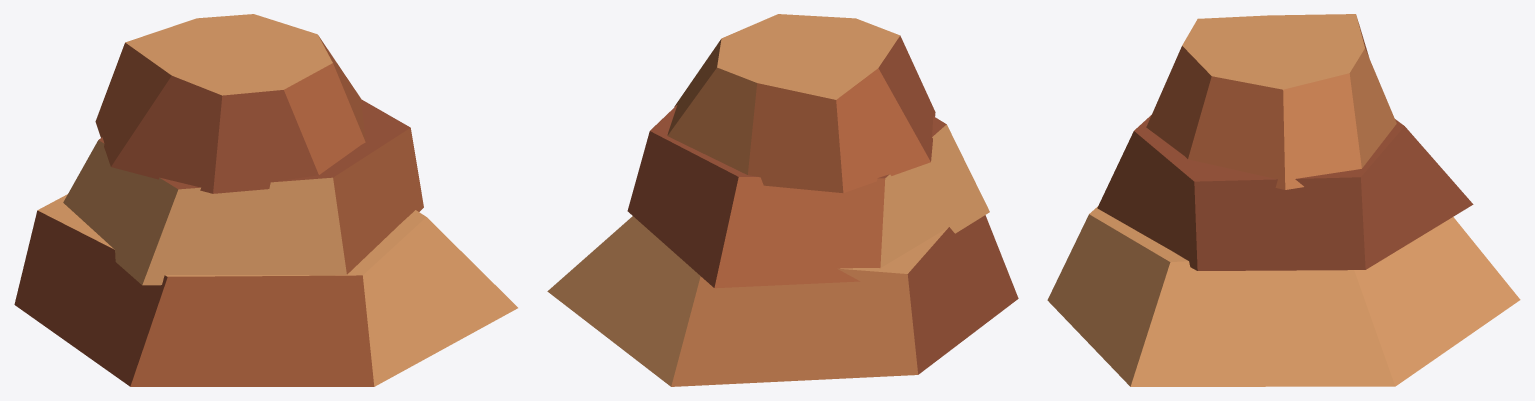
File: butte_a.glb
3 renders of one model, left to right at view 1: azimuth 30°, elevation 25°; view 2: azimuth 150°, elevation 25°; view 3: azimuth 270°, elevation 25°, orthographic. The views are drawn at different scales.
Visible parts, largest first — view 1: butte_a; view 2: butte_a; view 3: butte_a.
Boxes of the visible parts, <box> form: butte_a: <box>14,14,517,386</box>; butte_a: <box>547,14,1018,386</box>; butte_a: <box>1047,14,1520,386</box>.
Bounding box in the file's own units: 24.77 × 16.14 × 27.85.
